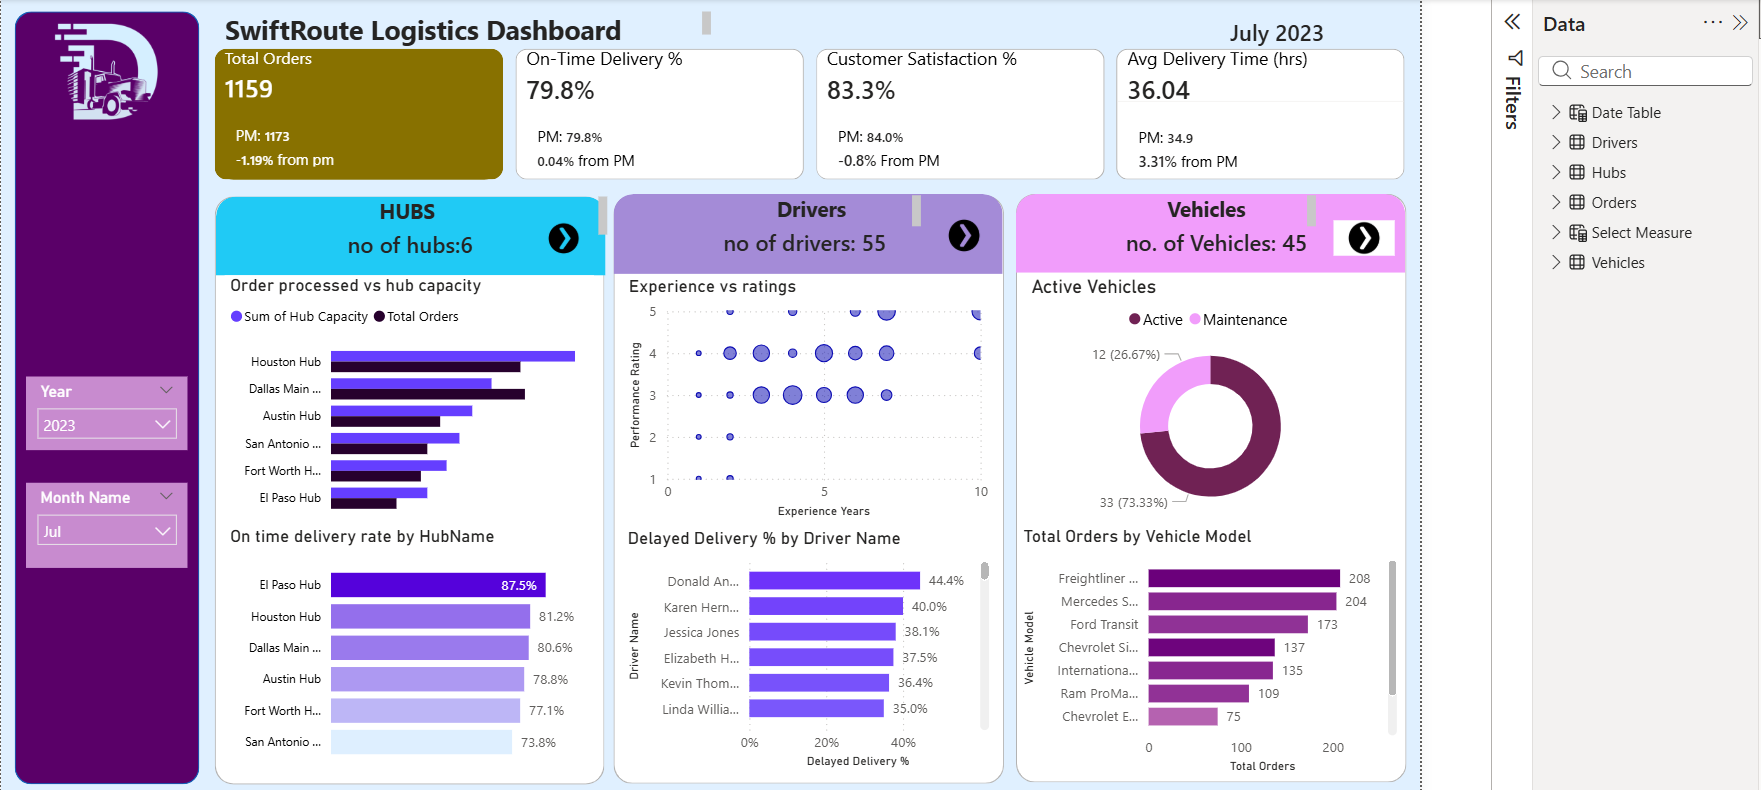

This screenshot's page, from the dashboard's own definition file:
{"tool":"powerbi","page":{"name":"SwiftRoute Logistics Dashboard","canvas":[1280,720],"ordinal":0},"visuals":[{"type":"shape","box":[12.8,11.4,166.4,696.9],"z":0},{"type":"textbox","box":[201.6,11.7,438.3,32.1],"z":1000},{"type":"cardVisual","fields":{"Data":["Orders.Total Orders","Orders.On-Time Delivery %","Orders.Customer Satisfaction %","Orders.Avg Delivery Time (hrs)"]},"box":[192.4,44.4,1074.1,119.6],"z":2000},{"type":"slicer","fields":{"Values":["Date Table.Year"]},"box":[23.1,340.6,145.7,66.4],"z":3000},{"type":"slicer","fields":{"Values":["Date Table.Month Name"]},"box":[23.1,435.8,145.7,76.5],"z":4000},{"type":"shape","box":[192.4,177.6,351.4,530.3],"z":5000},{"type":"shape","box":[193.6,177.6,351.4,71.5],"z":6000},{"type":"textbox","box":[193.6,177.6,352.7,38.2],"z":7000},{"type":"cardVisual","fields":{"Data":["Hubs.Total Hubs"]},"box":[282.5,190.8,172.4,58.7],"z":8000},{"type":"clusteredBarChart","title":"Order processed vs hub capacity","fields":{"Category":["Hubs.HubName"],"Y":["Sum(Hubs.Hub Capacity)","Orders.Total Orders"]},"box":[201.8,249.5,332.6,226.2],"z":9000},{"type":"clusteredBarChart","title":"On time delivery rate by HubName","fields":{"Category":["Hubs.HubName"],"Y":["Orders.PM On-Time Delivery %"]},"box":[201.8,475.7,332.6,222.6],"z":10000},{"type":"shape","box":[552.7,177.3,352.2,530.7],"z":11000},{"type":"shape","box":[552.7,176.1,351,72.1],"z":12000},{"type":"shape","box":[914.7,176.1,352.2,530.7],"z":13000},{"type":"shape","box":[914.7,176.1,351,70.9],"z":14000},{"type":"textbox","box":[639.5,177.3,190.8,34.2],"z":15000},{"type":"cardVisual","fields":{"Data":["Drivers.No of Drivers"]},"box":[622.4,188.3,211.6,59.9],"z":16000},{"type":"scatterChart","title":"Experience vs ratings","fields":{"X":["Drivers.Experience Years"],"Y":["Drivers.Performance Rating"],"Size":["Sum(Drivers.Experience Years)1"]},"box":[561.5,250,334.1,222.3],"z":17000},{"type":"barChart","fields":{"Category":["Orders.Driver Name"],"Y":["Orders.Delayed Delivery %"]},"box":[560.4,476.5,336,221.4],"z":18000},{"type":"cardVisual","fields":{"Data":["Vehicles.No. of Vehicles"]},"box":[985,187.8,238.2,59.6],"z":19000},{"type":"textbox","box":[995.4,177.3,190.8,34.2],"z":20000},{"type":"donutChart","title":"Active Vehicles","fields":{"Category":["Vehicles.Vehicle Status"],"Y":["CountNonNull(Vehicles.Vehicle ID)"]},"box":[924.5,248.7,332.9,223.6],"z":21000},{"type":"barChart","fields":{"Category":["Vehicles.Vehicle Model"],"Y":["Orders.Total Orders"]},"box":[922,476.1,336.6,222.3],"z":22000},{"type":"image","box":[0,12.2,192,113.7],"z":23000},{"type":"cardVisual","fields":{"Data":["Date Table.Selected Month-Year"]},"box":[1053.9,0,194.7,57.8],"z":24000},{"type":"image","box":[841.3,196.9,55,31.8],"z":24001},{"type":"image","box":[480.6,200.1,54.1,30.7],"z":24002},{"type":"image","box":[1202,199.3,55,31.8],"z":24003}]}

Visuals, with their boxes on the page's 1280x720 design canvas (x1, y1, x2, y2). These are canvas units, not pixel positions in the 1761x790 screenshot, which may show the page scaled, cropped or inside an application window:
shape: box=[13, 11, 179, 708]
textbox: box=[202, 12, 640, 44]
cardVisual - Orders.Total Orders x Orders.On-Time Delivery %: box=[192, 44, 1266, 164]
slicer - Date Table.Year: box=[23, 341, 169, 407]
slicer - Date Table.Month Name: box=[23, 436, 169, 512]
shape: box=[192, 178, 544, 708]
shape: box=[194, 178, 545, 249]
textbox: box=[194, 178, 546, 216]
cardVisual - Hubs.Total Hubs: box=[282, 191, 455, 250]
"Order processed vs hub capacity" clusteredBarChart: box=[202, 250, 534, 476]
"On time delivery rate by HubName" clusteredBarChart: box=[202, 476, 534, 698]
shape: box=[553, 177, 905, 708]
shape: box=[553, 176, 904, 248]
shape: box=[915, 176, 1267, 707]
shape: box=[915, 176, 1266, 247]
textbox: box=[640, 177, 830, 212]
cardVisual - Drivers.No of Drivers: box=[622, 188, 834, 248]
"Experience vs ratings" scatterChart: box=[562, 250, 896, 472]
barChart - Orders.Driver Name x Orders.Delayed Delivery %: box=[560, 476, 896, 698]
cardVisual - Vehicles.No. of Vehicles: box=[985, 188, 1223, 247]
textbox: box=[995, 177, 1186, 212]
"Active Vehicles" donutChart: box=[924, 249, 1257, 472]
barChart - Vehicles.Vehicle Model x Orders.Total Orders: box=[922, 476, 1259, 698]
image: box=[0, 12, 192, 126]
cardVisual - Date Table.Selected Month-Year: box=[1054, 0, 1249, 58]
image: box=[841, 197, 896, 229]
image: box=[481, 200, 535, 231]
image: box=[1202, 199, 1257, 231]
